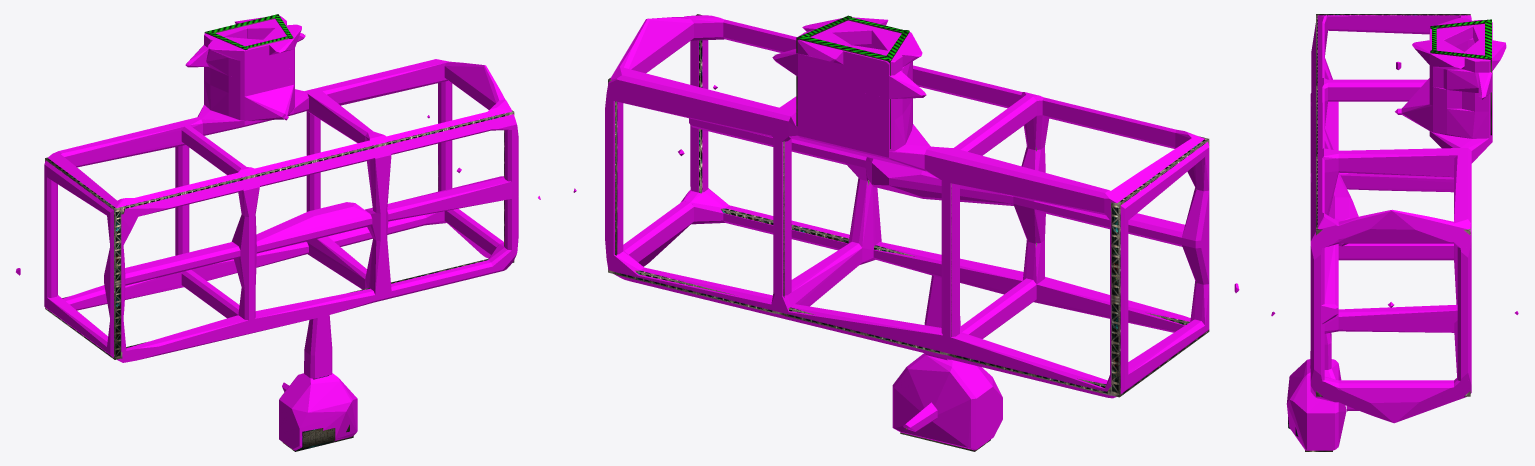
Rendered from acs05.glb.
3 renders of one model, left to right at view 1: azimuth 30°, elevation 25°; view 2: azimuth 150°, elevation 25°; view 3: azimuth 270°, elevation 25°, orthographic. The views are drawn at different scales.
Visible parts, largest first — view 1: acs05, COL_CoACD017, COL_CoACD026, COL_CoACD030, COL_CoACD009, COL_CoACD010, COL_CoACD046, COL_CoACD047, COL_CoACD028, COL_CoACD025, COL_CoACD008, COL_CoACD007 (+35 smaller); view 2: acs05, COL_CoACD026, COL_CoACD010, COL_CoACD017, COL_CoACD009, COL_CoACD046, COL_CoACD028, COL_CoACD022, COL_CoACD041, COL_CoACD015, COL_CoACD002, COL_CoACD030 (+36 smaller); view 3: COL_CoACD055, COL_CoACD026, COL_CoACD056, COL_CoACD037, COL_CoACD039, COL_CoACD028, COL_CoACD011, COL_CoACD014, COL_CoACD002, COL_CoACD054, acs05, COL_CoACD004 (+24 smaller).
Boxes of the visible parts, box(x1,y1,x2,y2) form: acs05: box(45, 14, 514, 451); COL_CoACD017: box(126, 288, 375, 362); COL_CoACD026: box(279, 373, 357, 450); COL_CoACD030: box(256, 202, 372, 253); COL_CoACD009: box(57, 117, 202, 167); COL_CoACD010: box(63, 241, 308, 310); COL_CoACD046: box(318, 59, 449, 105); COL_CoACD047: box(387, 176, 518, 221); COL_CoACD028: box(204, 80, 294, 120); COL_CoACD025: box(255, 140, 374, 186); COL_CoACD008: box(125, 242, 240, 285); COL_CoACD007: box(134, 172, 242, 216); acs05: box(608, 14, 1209, 451); COL_CoACD026: box(892, 353, 1002, 450); COL_CoACD010: box(788, 304, 1107, 397); COL_CoACD017: box(873, 242, 1190, 332); COL_CoACD009: box(924, 146, 1110, 215); COL_CoACD046: box(606, 67, 778, 137); COL_CoACD028: box(796, 98, 912, 151); COL_CoACD022: box(772, 49, 926, 98); COL_CoACD041: box(773, 138, 791, 295); COL_CoACD015: box(941, 181, 959, 337); COL_CoACD002: box(1104, 138, 1205, 223); COL_CoACD030: box(865, 157, 1013, 205); COL_CoACD055: box(1338, 380, 1453, 423); COL_CoACD026: box(1286, 359, 1346, 450); COL_CoACD056: box(1338, 209, 1453, 243); COL_CoACD037: box(1338, 148, 1471, 177); COL_CoACD039: box(1338, 304, 1457, 332); COL_CoACD028: box(1401, 78, 1492, 138); COL_CoACD011: box(1328, 79, 1427, 101); COL_CoACD014: box(1338, 243, 1453, 260); COL_CoACD002: box(1328, 15, 1471, 34); COL_CoACD054: box(1457, 247, 1471, 381); acs05: box(1288, 14, 1491, 451); COL_CoACD004: box(1339, 173, 1453, 192).
Bounding box in the file's own units: 25.7 × 18.82 × 10.77.
Materials: 2 (1 with a texture image).
